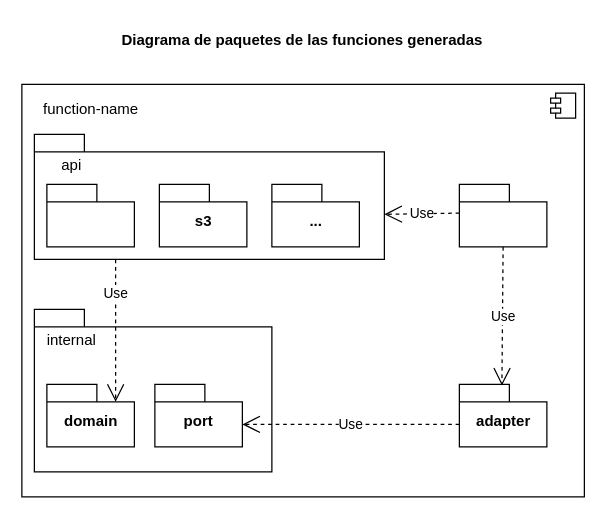
This 606x519 diagram has some shape labels left out. The box of each missing label's shape, as (x1, y1, x2, y2) in pixels:
cmd: (458, 183, 547, 247)
http: (46, 183, 134, 247)
